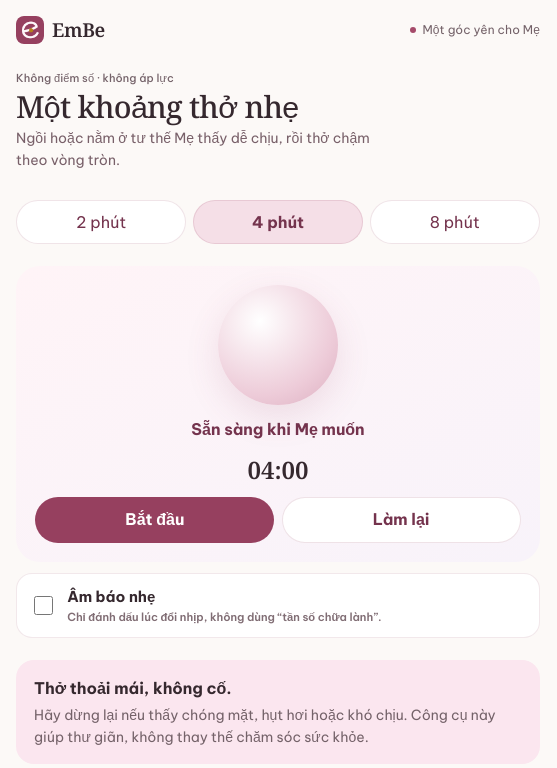
it: pregnancy relaxation page › starts a calm, non-medical breathing guide
Check: the heading "Một khoảng thở nhẹ" is shown, box [16, 86, 298, 127]
Click the button "Bắt đầu": [155, 520] box [35, 497, 274, 543]
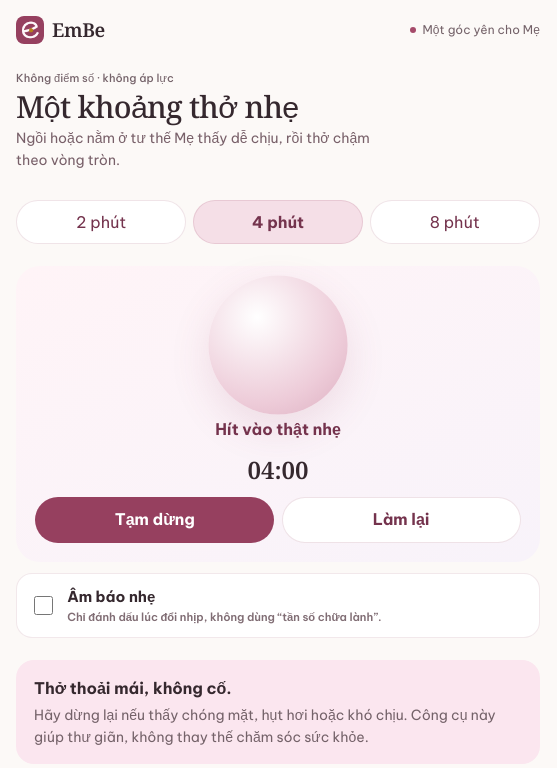
Check: the text "dừng lại nếu thấy chóng mặt" is shown, box [34, 706, 496, 746]
Check: the text "Hít vào thật nhẹ" is shown, box [215, 416, 341, 441]
